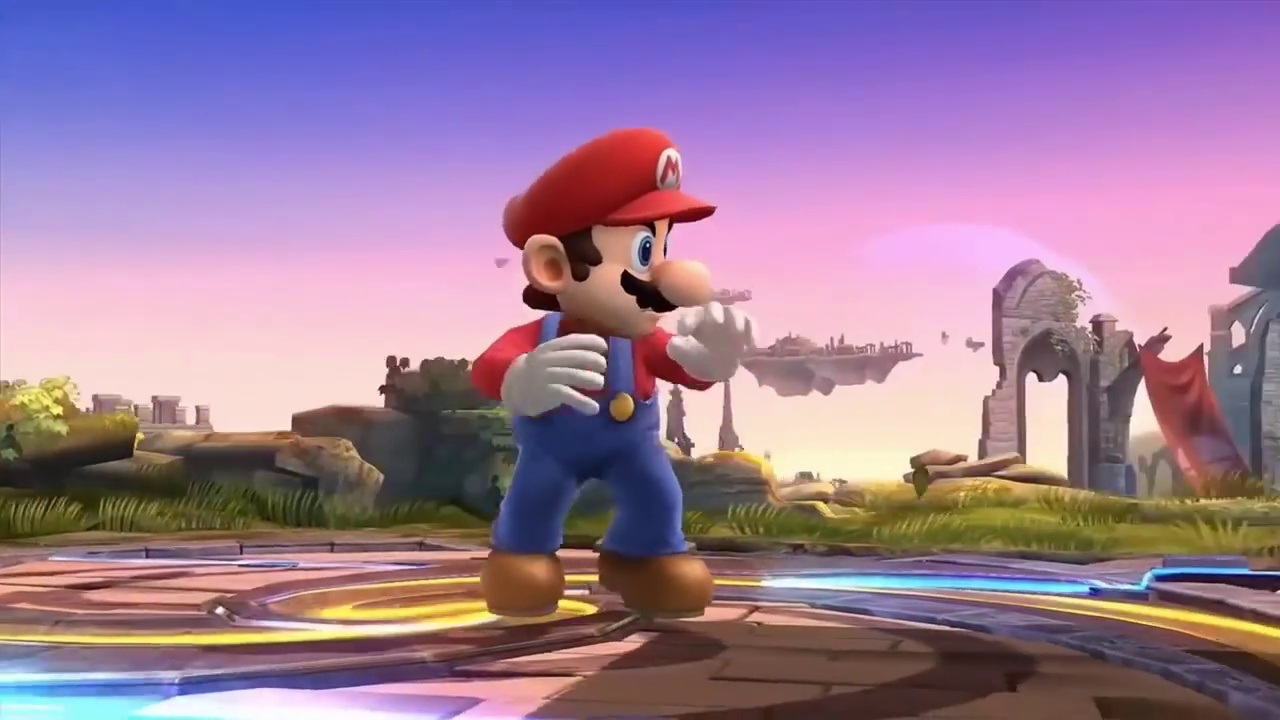Mario: (470, 126, 754, 613)
